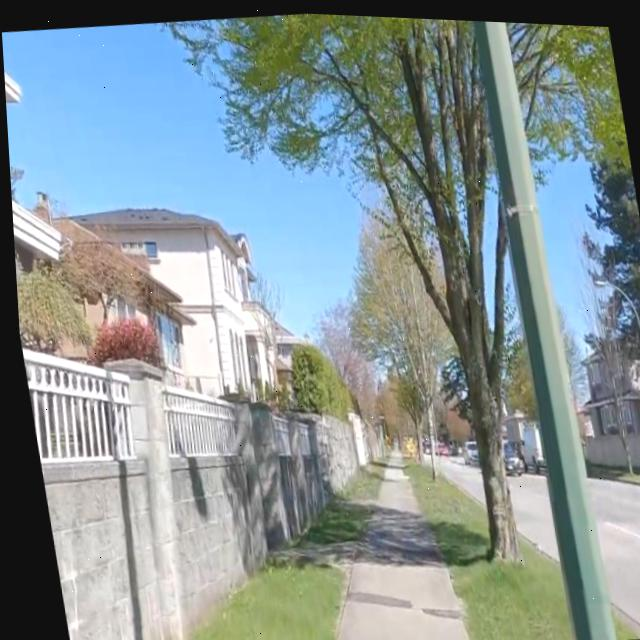Automobile: (497, 436, 517, 469), (458, 436, 471, 460), (431, 438, 443, 450)
Obstacle: (167, 11, 511, 553), (18, 351, 321, 640), (471, 16, 606, 638), (400, 458, 562, 640), (178, 561, 336, 640), (445, 538, 563, 640), (312, 412, 353, 487), (336, 462, 375, 496), (608, 614, 634, 634), (608, 615, 631, 634), (423, 404, 429, 473)
Road: (581, 472, 640, 623), (582, 472, 640, 624), (503, 471, 549, 554), (504, 470, 549, 553), (434, 453, 476, 498)
Sidewalk: (324, 439, 460, 640)
